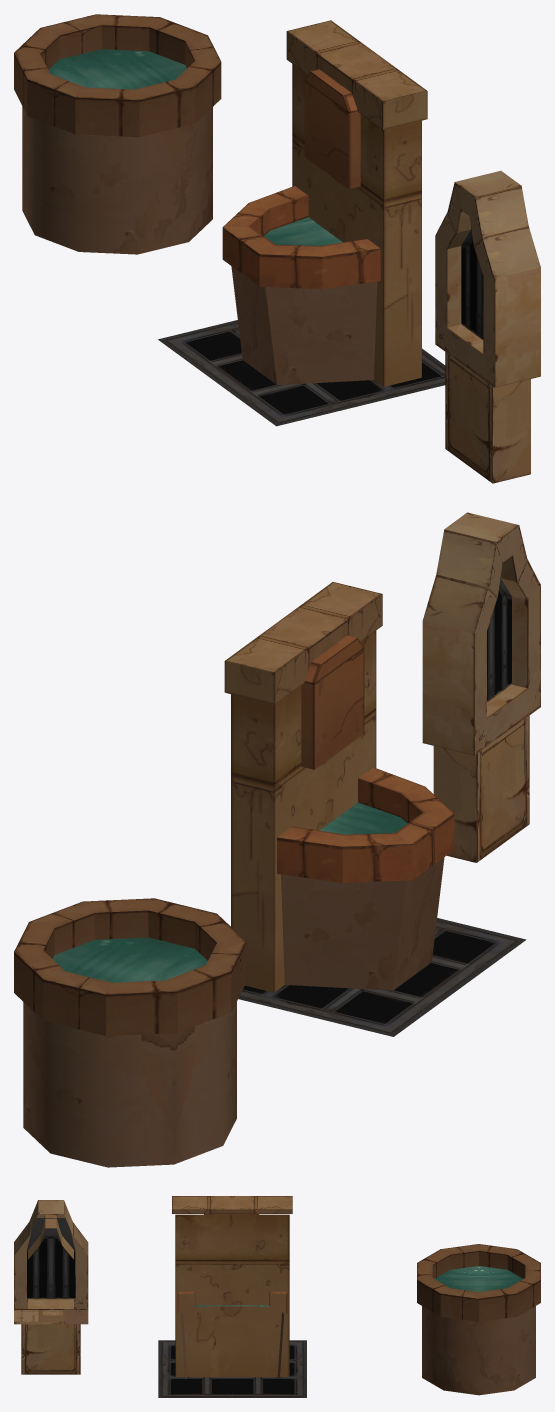
The model's file is 2_DG_QiangBianWuJian_01.FBX.
3 renders of one model, top to bottom at view 1: azimuth 30°, elevation 25°; view 2: azimuth 150°, elevation 25°; view 3: azimuth 270°, elevation 25°, orthographic. The views are drawn at different scales.
Visible parts, largest first — view 1: 2_DG_ShuiChi_01, 2_DG_ShuiJing_01, 2_DG_XiaoPeiJian_01; view 2: 2_DG_ShuiChi_01, 2_DG_ShuiJing_01, 2_DG_XiaoPeiJian_01; view 3: 2_DG_ShuiChi_01, 2_DG_ShuiJing_01, 2_DG_XiaoPeiJian_01.
Boxes of the visible parts, x1=… form: 2_DG_ShuiChi_01: x1=158, y1=20, x2=445, y2=426; 2_DG_ShuiJing_01: x1=14, y1=14, x2=221, y2=254; 2_DG_XiaoPeiJian_01: x1=435, y1=170, x2=540, y2=483; 2_DG_ShuiChi_01: x1=224, y1=582, x2=526, y2=1036; 2_DG_ShuiJing_01: x1=14, y1=898, x2=246, y2=1167; 2_DG_XiaoPeiJian_01: x1=422, y1=512, x2=540, y2=862; 2_DG_ShuiChi_01: x1=158, y1=1196, x2=306, y2=1397; 2_DG_ShuiJing_01: x1=417, y1=1244, x2=540, y2=1395; 2_DG_XiaoPeiJian_01: x1=14, y1=1200, x2=88, y2=1374.
Bounding box in the file's own units: 261 × 384 × 1007.
